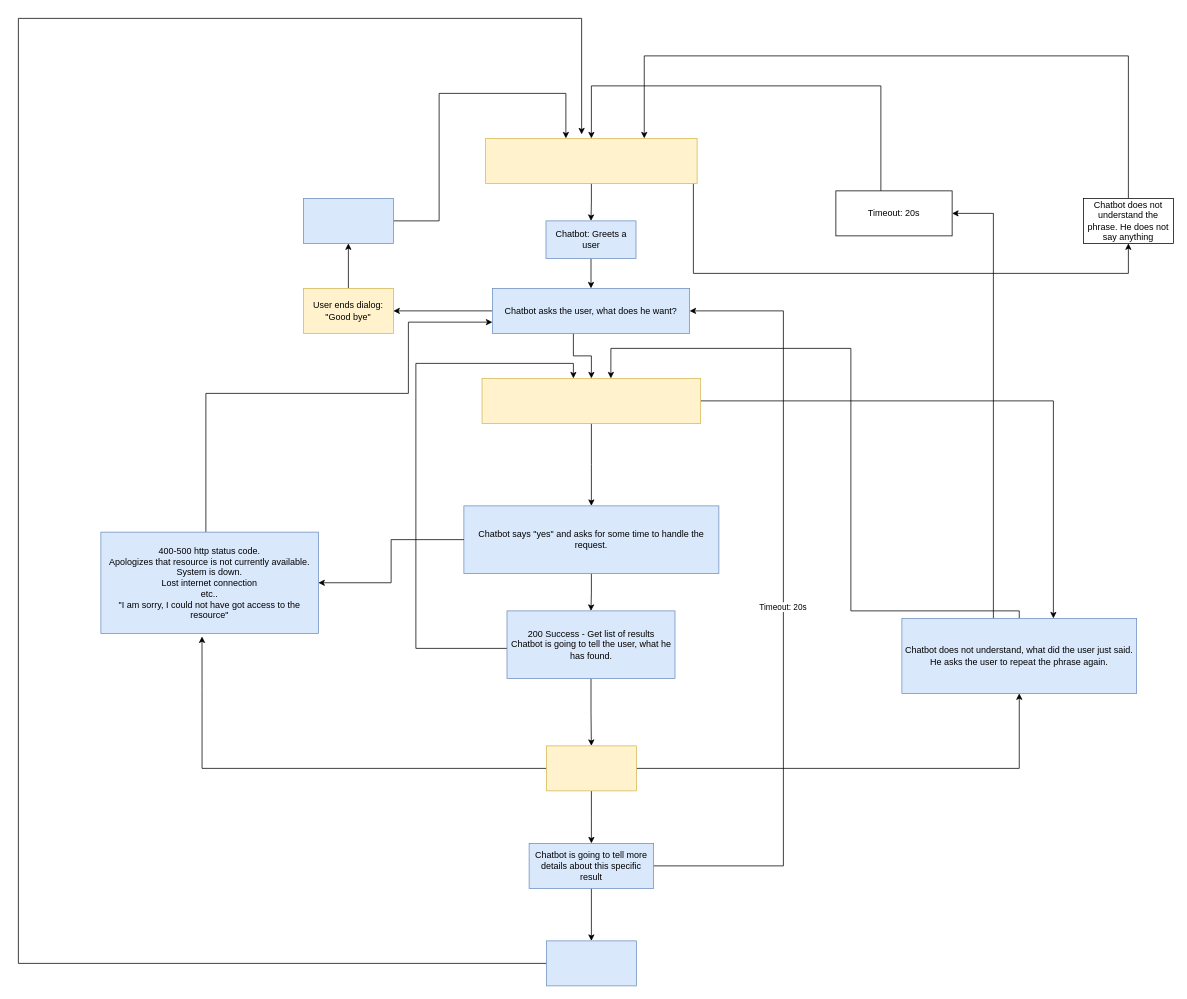
Some shapes in this 1187 by 999 pixel diagram are drawn without their labels. Here are the shapes that lost their labels. From the top down, the centre of each, then its label:
point (591, 160): Greeting the chatbot (Wakeup phrase)
point (348, 220): Chatbot: "good bye, sir"
point (591, 400): User asks for some data resource, which would require some external API call
point (591, 768): User asks more details about the one specific result.
point (591, 963): User says thank you
